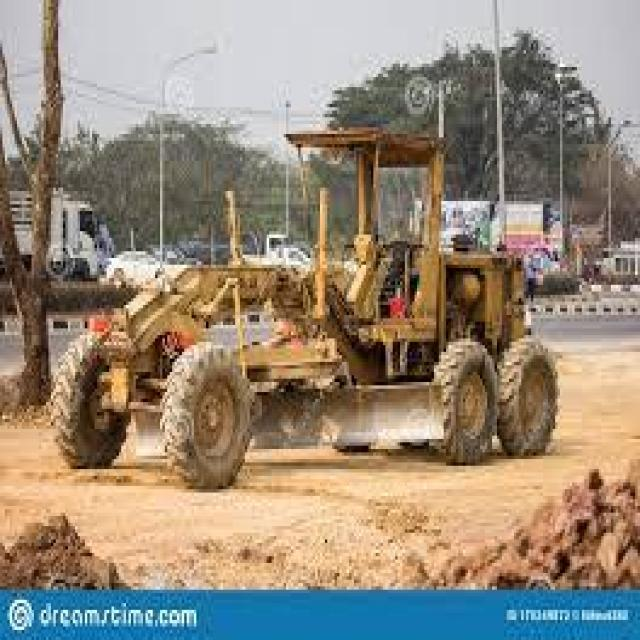Grader: (41, 121, 577, 496)
